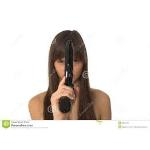Pistol: (52, 38, 78, 115)
